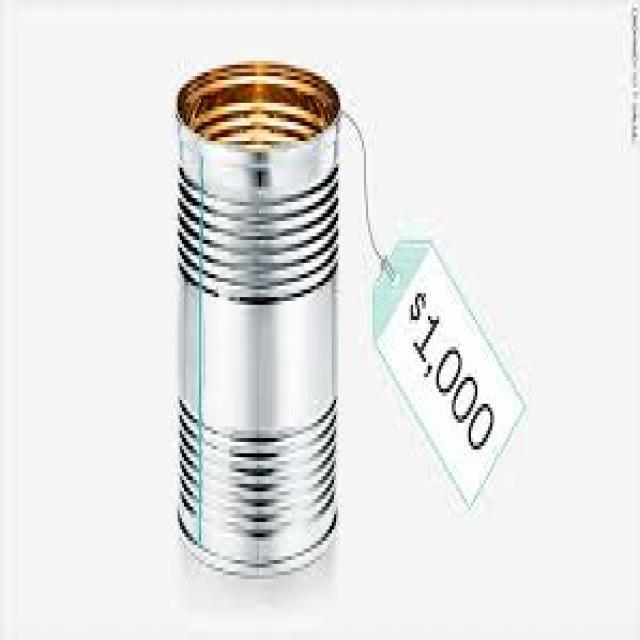metal-can: (171, 58, 343, 578)
